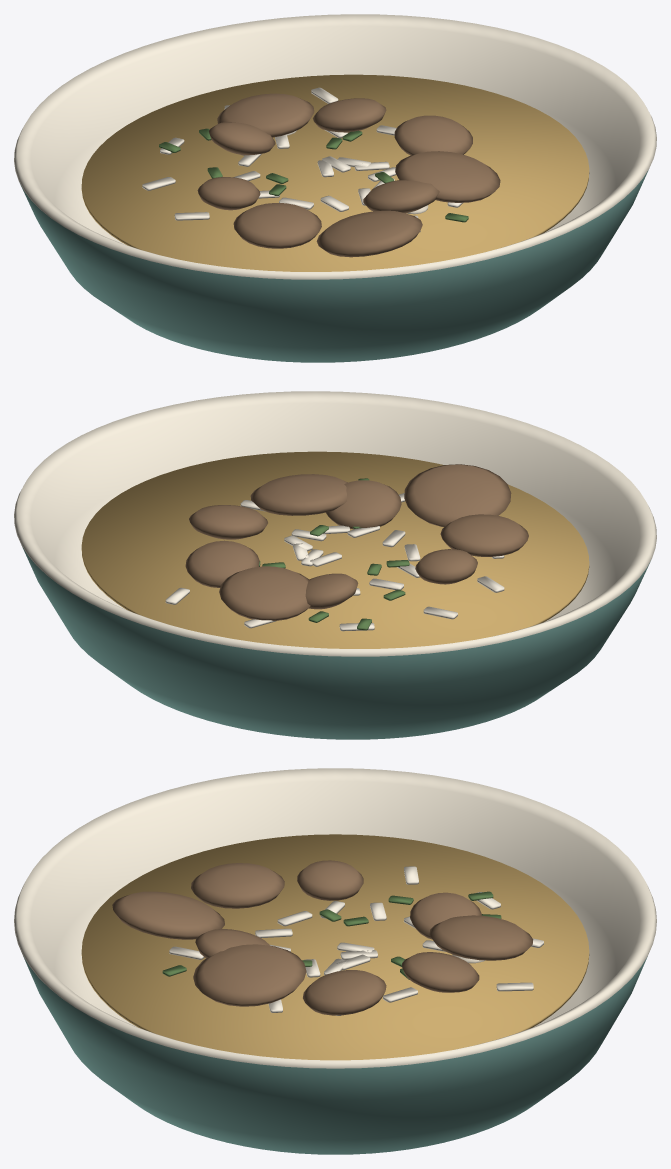
Rendered from meal_mushroom_soup_serving.glb.
The picture shows the model from 3 angles, top to bottom: view 1: azimuth 30°, elevation 25°; view 2: azimuth 150°, elevation 25°; view 3: azimuth 270°, elevation 25°; orthographic projection. The views are drawn at different scales.
Visible parts, largest first — view 1: DishGeometry, FoodGeometry; view 2: DishGeometry, FoodGeometry; view 3: DishGeometry, FoodGeometry.
Boxes of the visible parts, left/top/right/bottom form: DishGeometry: left=14, top=14, right=656, bottom=362; FoodGeometry: left=142, top=87, right=500, bottom=257; DishGeometry: left=14, top=391, right=656, bottom=739; FoodGeometry: left=165, top=464, right=528, bottom=631; DishGeometry: left=14, top=768, right=656, bottom=1154; FoodGeometry: left=112, top=860, right=543, bottom=1015.
Size of the model in its own units: 0.38 by 0.084 by 0.3496.
